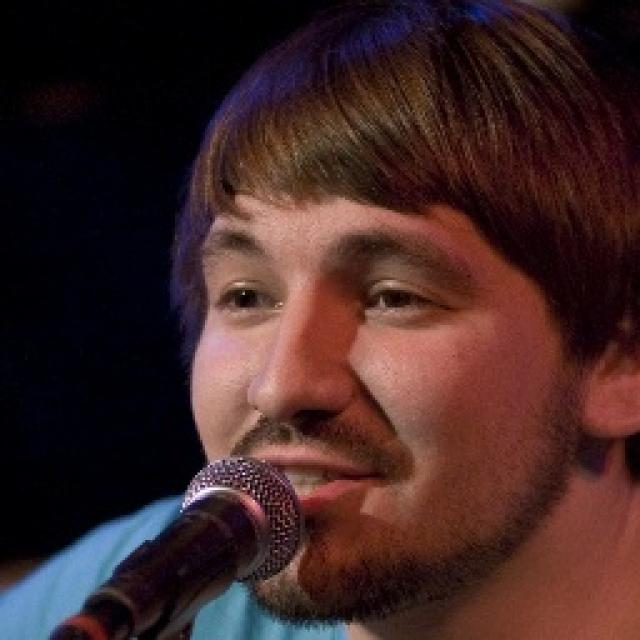earlobe: (581, 374, 636, 439), (360, 286, 440, 314), (214, 284, 282, 312)
nose: (251, 399, 349, 442)
wholeear: (576, 314, 640, 441)
